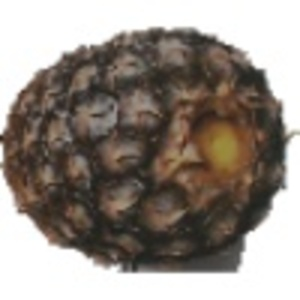abacaxi: (1, 23, 291, 267)
